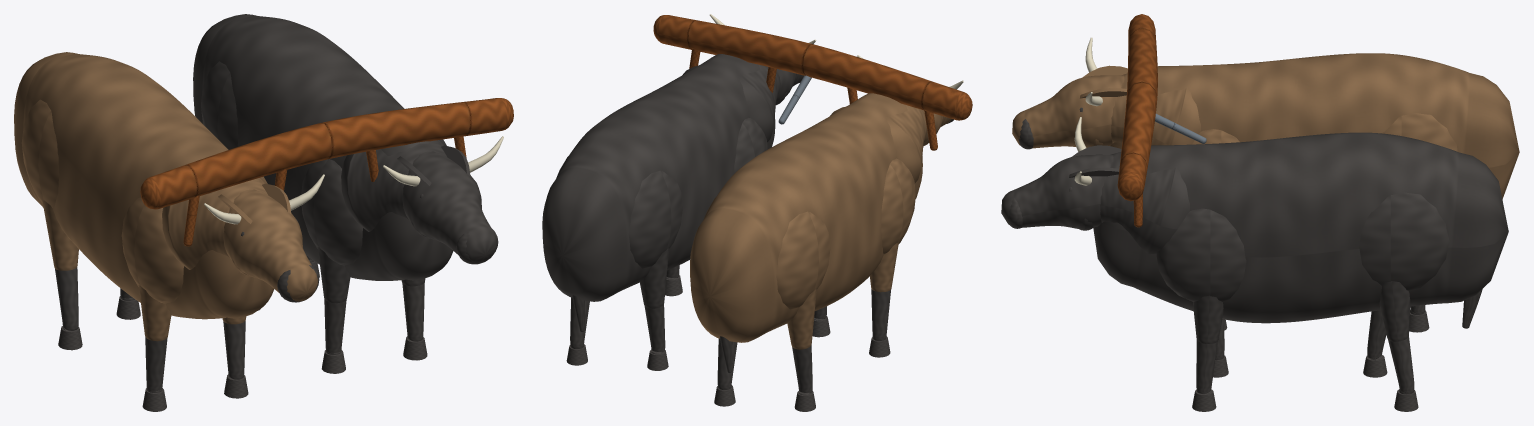
Rendered from farm-and-working-animals-hd-oxen-pair-yoked-687e4358__29207.glb.
The picture shows the model from 3 angles, left to right: view 1: azimuth 30°, elevation 25°; view 2: azimuth 150°, elevation 25°; view 3: azimuth 270°, elevation 25°; orthographic projection. The views are drawn at different scales.
Visible parts, largest first — view 1: oxen-pair-yoked; view 2: oxen-pair-yoked; view 3: oxen-pair-yoked.
Part boxes in pixels (x1,y1,x2,y2): oxen-pair-yoked: (14,14,513,411); oxen-pair-yoked: (542,14,972,411); oxen-pair-yoked: (1001,14,1519,411).
Size of the model in its own units: 2.19 by 1.64 by 2.87.
5 materials, 4 textured.
